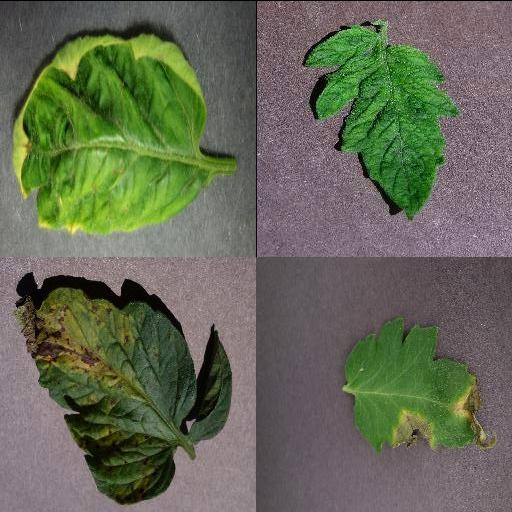Late Blight: (345, 316, 499, 452)
Mosaic Virus: (303, 25, 459, 219)
Septoria: (13, 288, 197, 504)
Yellow Leaf Curl Virus: (11, 29, 209, 237)
